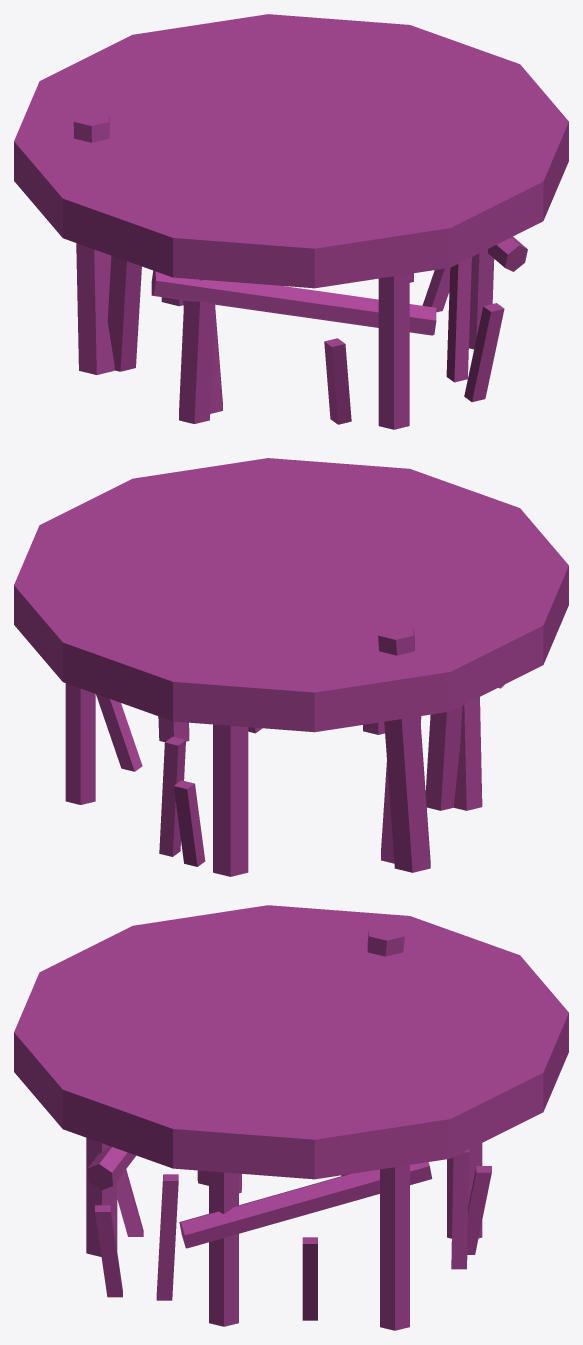
File: SM_Bld_Tent_Platform_02_Collision.fbx
The picture shows the model from 3 angles, top to bottom: view 1: azimuth 30°, elevation 25°; view 2: azimuth 150°, elevation 25°; view 3: azimuth 270°, elevation 25°; orthographic projection.
Visible parts, largest first — view 1: SM_Bld_Tent_Platform_02_Collision; view 2: SM_Bld_Tent_Platform_02_Collision; view 3: SM_Bld_Tent_Platform_02_Collision.
Boxes of the visible parts, <box> form: SM_Bld_Tent_Platform_02_Collision: <box>14,14,568,429</box>; SM_Bld_Tent_Platform_02_Collision: <box>14,458,568,876</box>; SM_Bld_Tent_Platform_02_Collision: <box>14,905,568,1330</box>.
Bounding box in the file's own units: 617 × 296 × 617.
